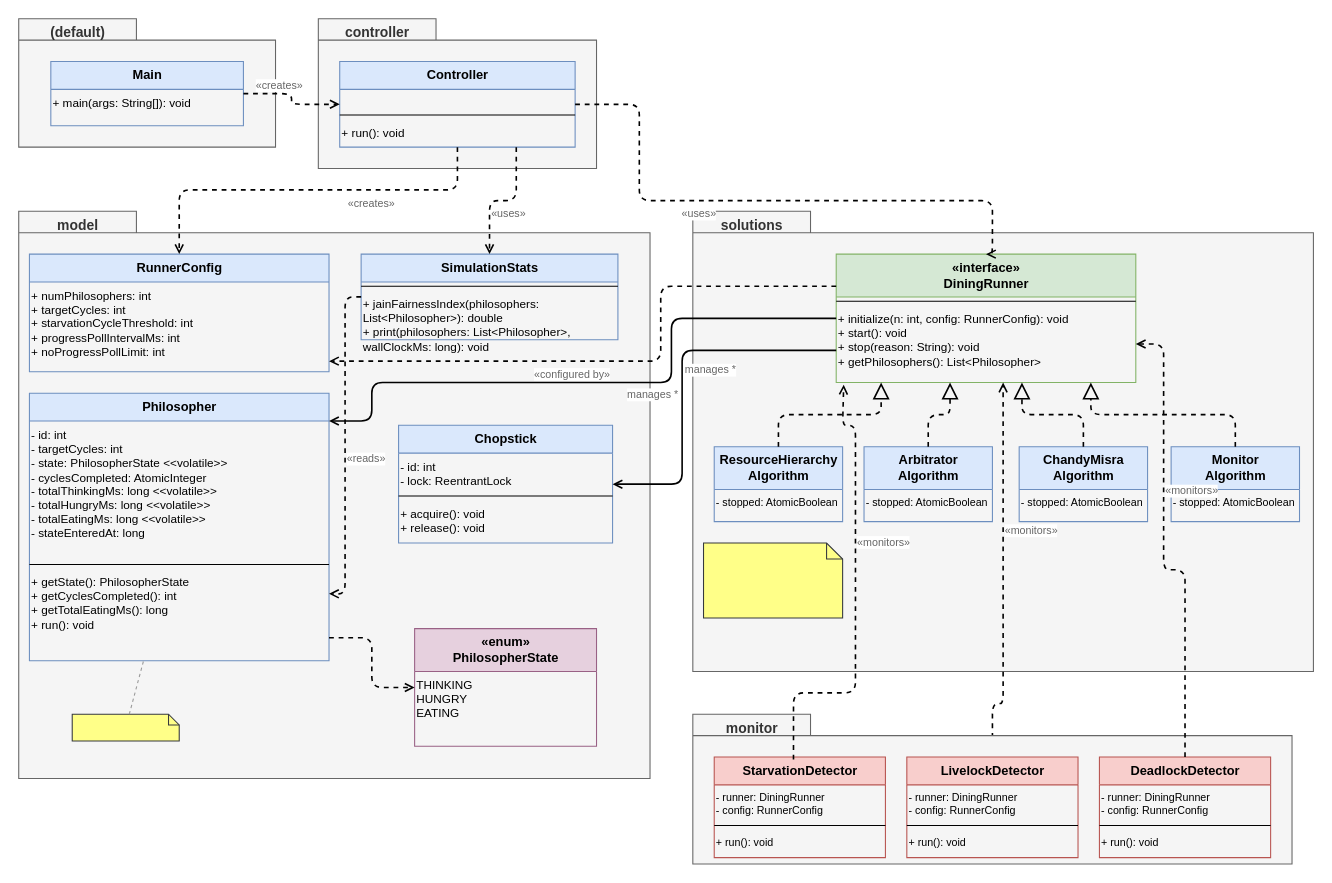
Some shapes in this 1332 by 883 pixel diagram are drawn without their labels. Each missing label, with the centre of its shape:
"Each algorithm manages its own Philosopher[] and Chopstick[] instances" goes at pixel 772 580.
"extends Thread" goes at pixel 125 727.
